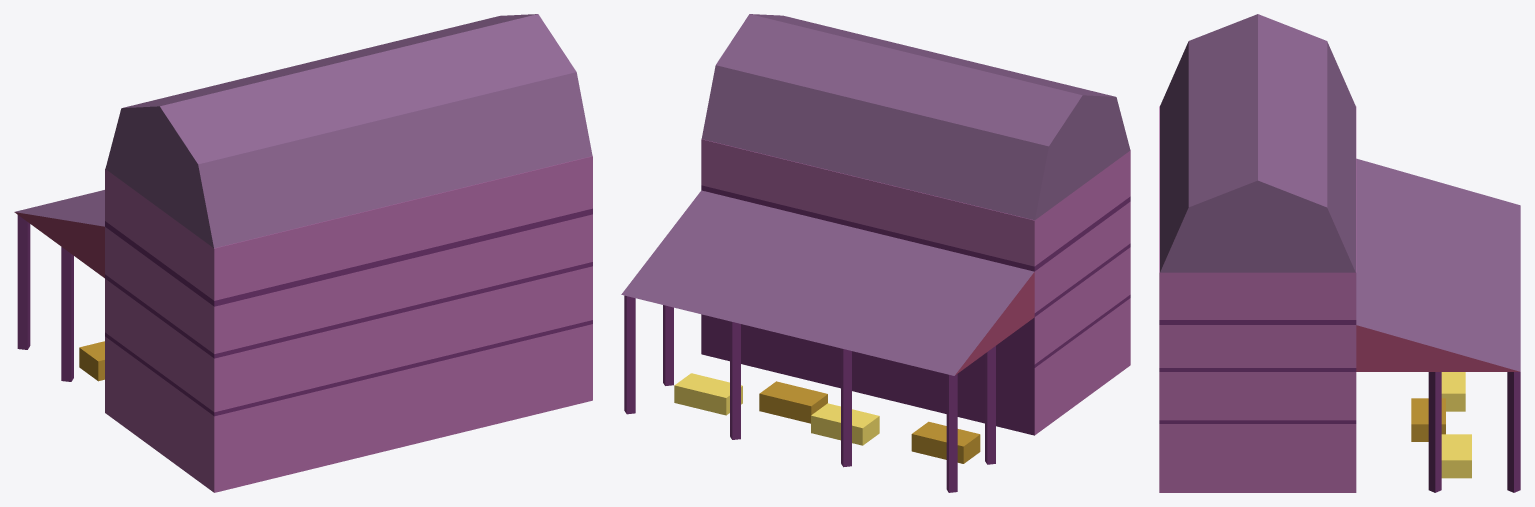
Rendered from xGroceryStore.fbx.
The picture shows the model from 3 angles, left to right: view 1: azimuth 30°, elevation 25°; view 2: azimuth 150°, elevation 25°; view 3: azimuth 270°, elevation 25°; orthographic projection. The views are drawn at different scales.
Parts seen in each view (by area): view 1: Cylinder.017, Cylinder.020, Cube.018; view 2: Cylinder.017, Cylinder.020, Cube.018; view 3: Cylinder.017, Cylinder.020, Cube.018.
Boxes of the visible parts, <box> form: Cylinder.017: <box>105,14,592,492</box>; Cylinder.020: <box>14,190,104,381</box>; Cube.018: <box>79,341,104,381</box>; Cylinder.017: <box>701,14,1130,435</box>; Cylinder.020: <box>621,190,1034,492</box>; Cube.018: <box>674,373,980,463</box>; Cylinder.017: <box>1159,14,1356,492</box>; Cylinder.020: <box>1356,158,1520,492</box>; Cube.018: <box>1411,372,1471,478</box>.
Size of the model in its own units: 6000 by 5250 by 5500.
